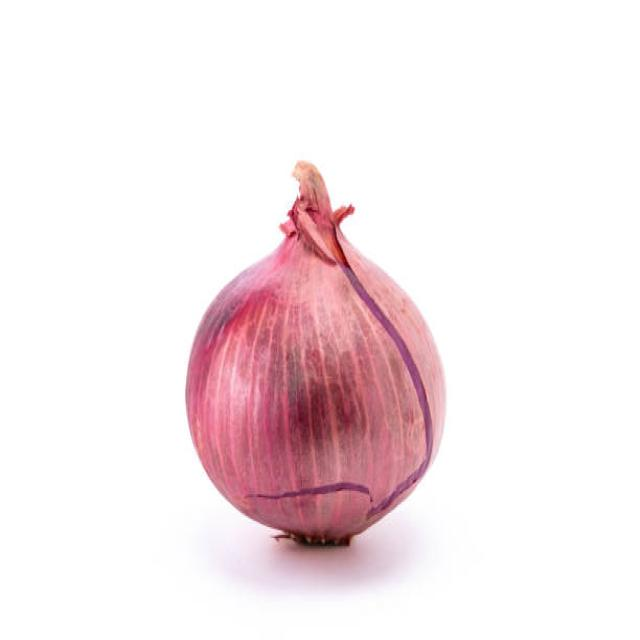onion: (178, 215, 446, 558)
